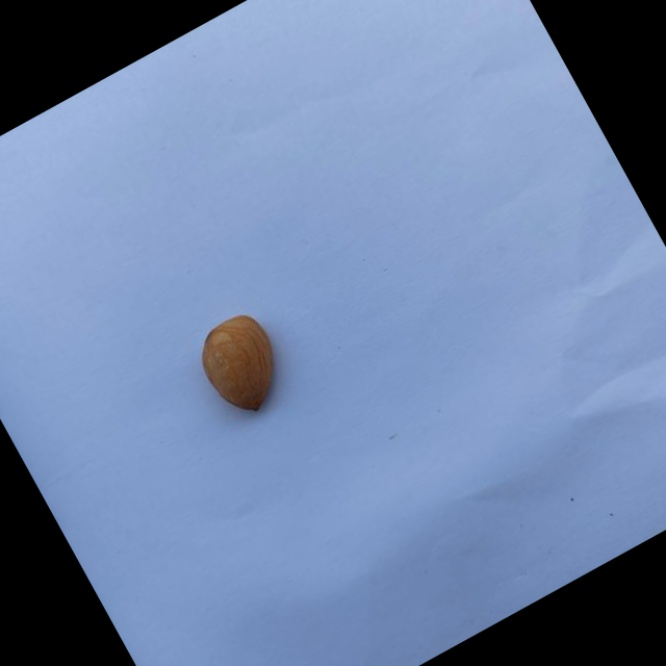grade2: (183, 300, 304, 428)
